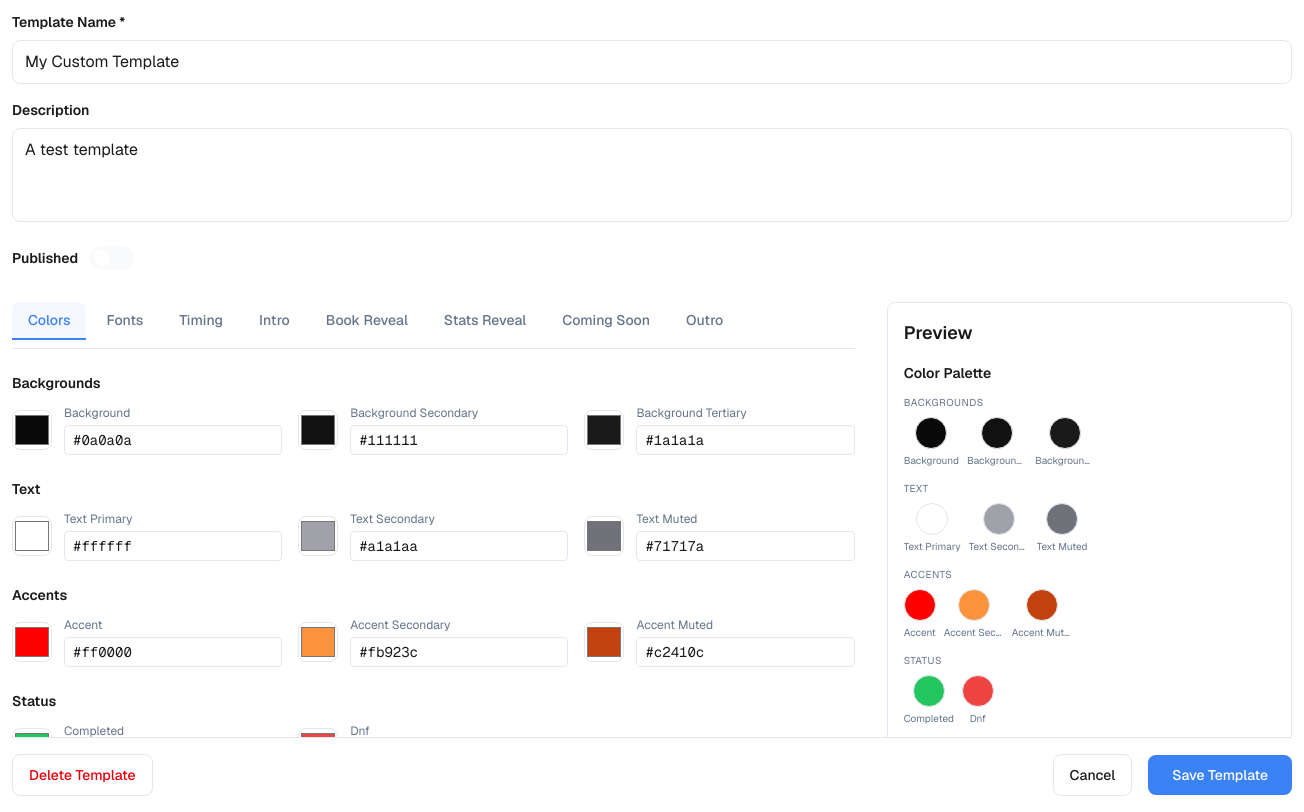
Scenario: TemplateEditorClient › "edit" mode pre-populates fields from a provided initial config
Expected: the field with test id "template-name-input" holds "My Custom Template", [12,40,1292,84]
Expected: the text box with test id "template-description-input" holds "A test template", [12,128,1292,222]
Note: Switch to Fonts and check custom heading value
Click the button "Fonts": point(125, 321) [90,302,159,340]
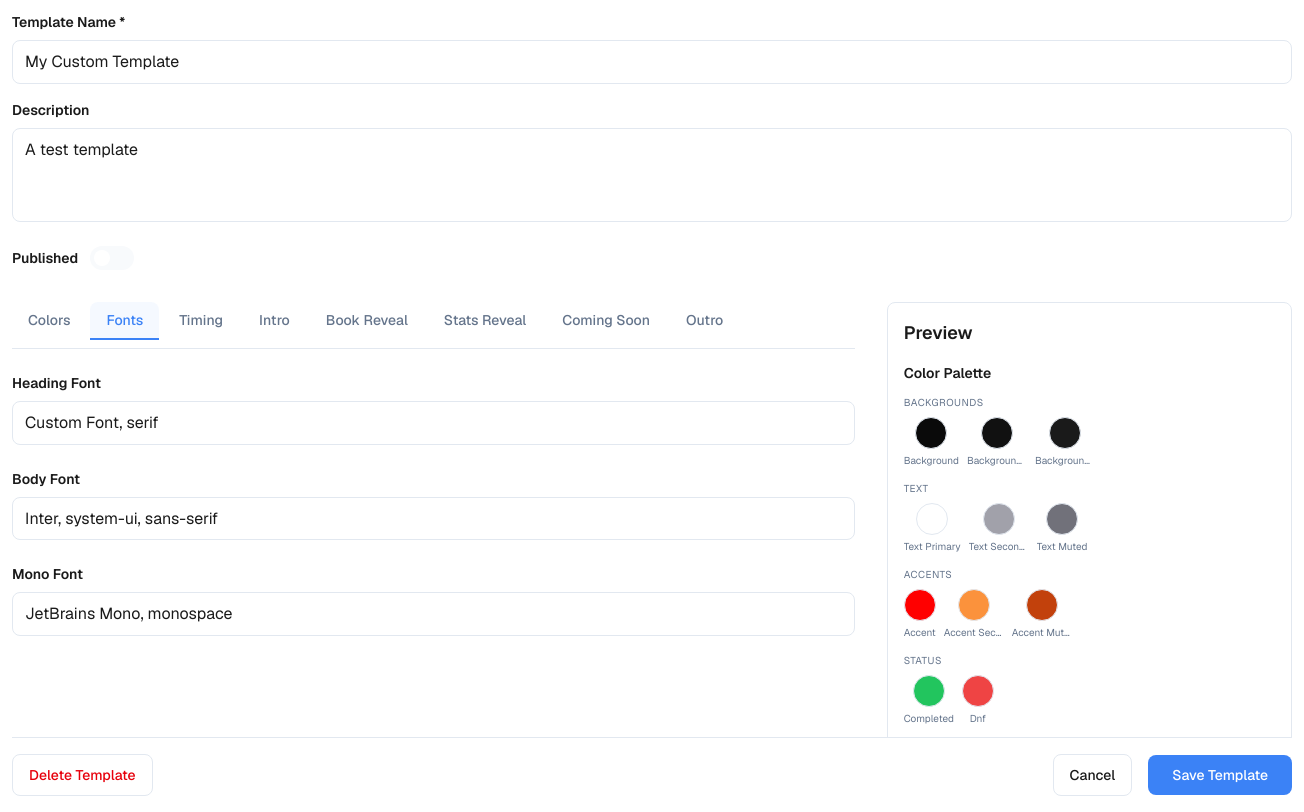
Now the field with test id "font-heading-input" holds "Custom Font, serif", box [12,401,855,445]
Note: Switch to Intro tab and check the custom layout
Click the button "Intro": point(274, 321) [243,302,306,340]
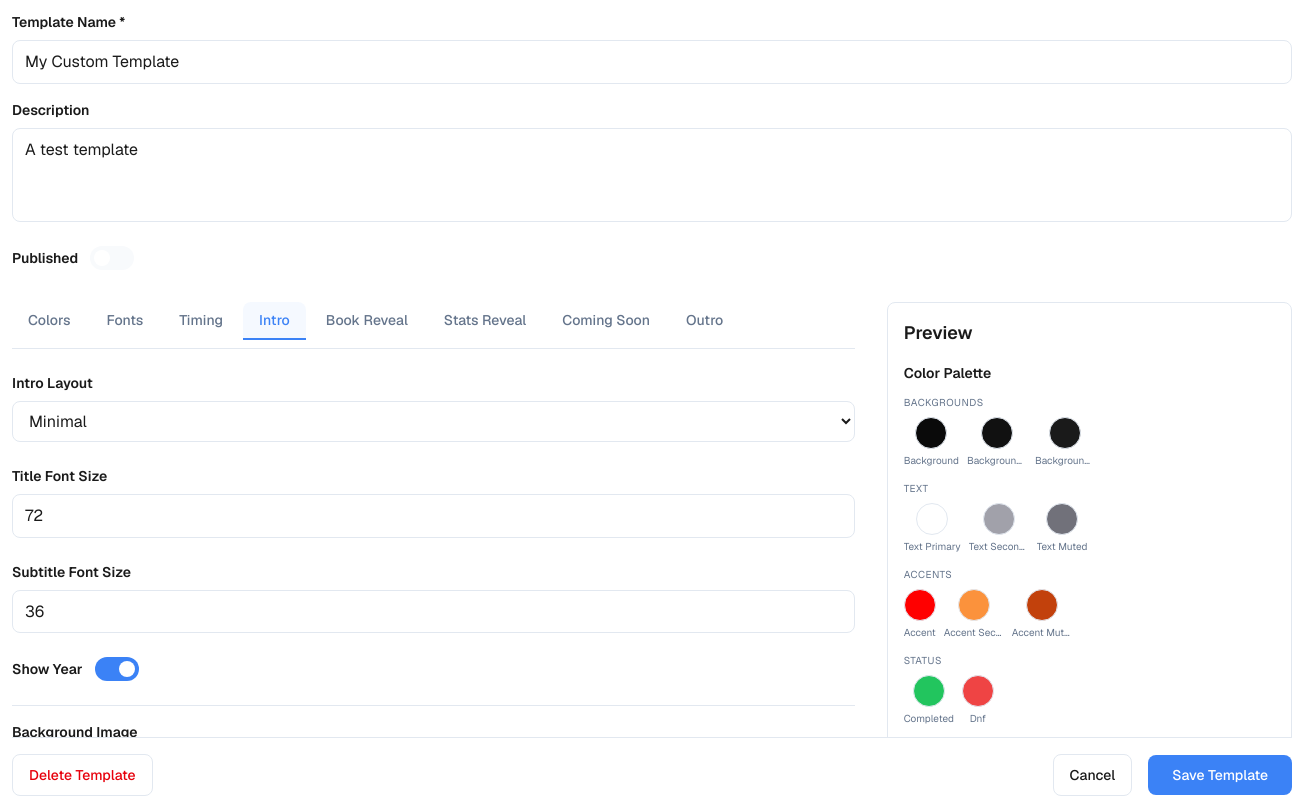
Now the dropdown with test id "intro-layout-select" shows "Minimal", box [12,401,855,442]
